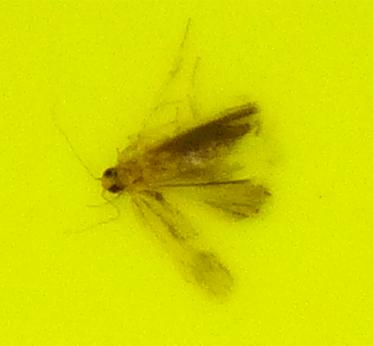Lepidoptera: (100, 100, 273, 246)
